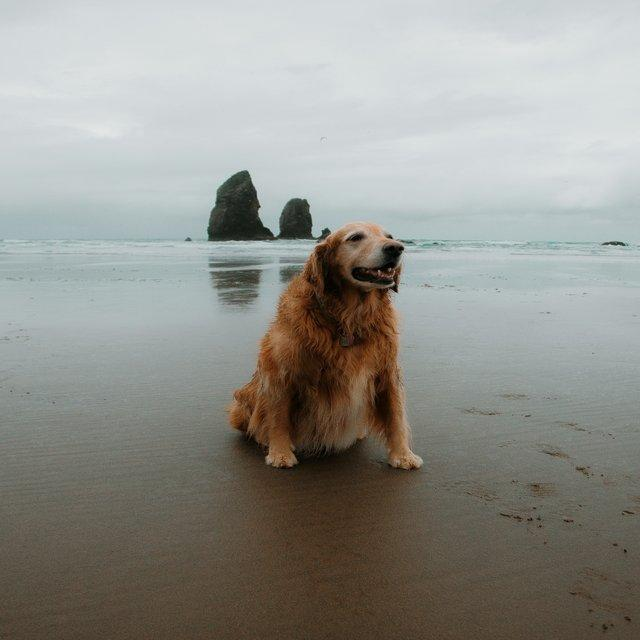retriever: (227, 220, 424, 470)
